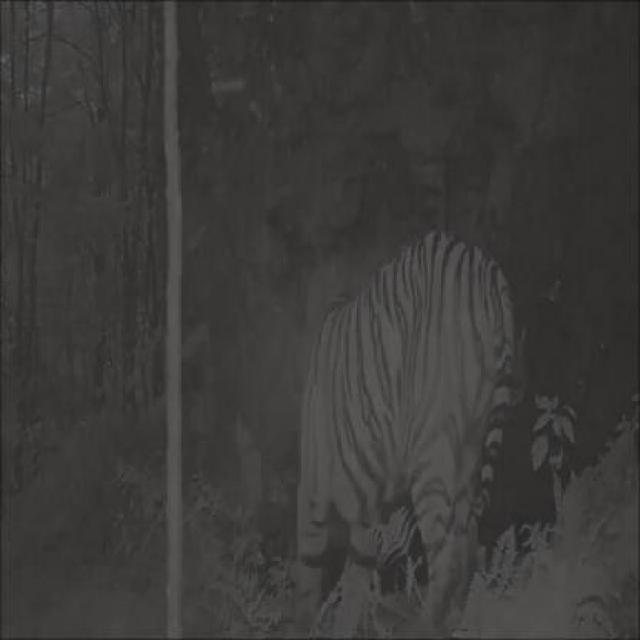Tiger: (285, 222, 521, 640)
